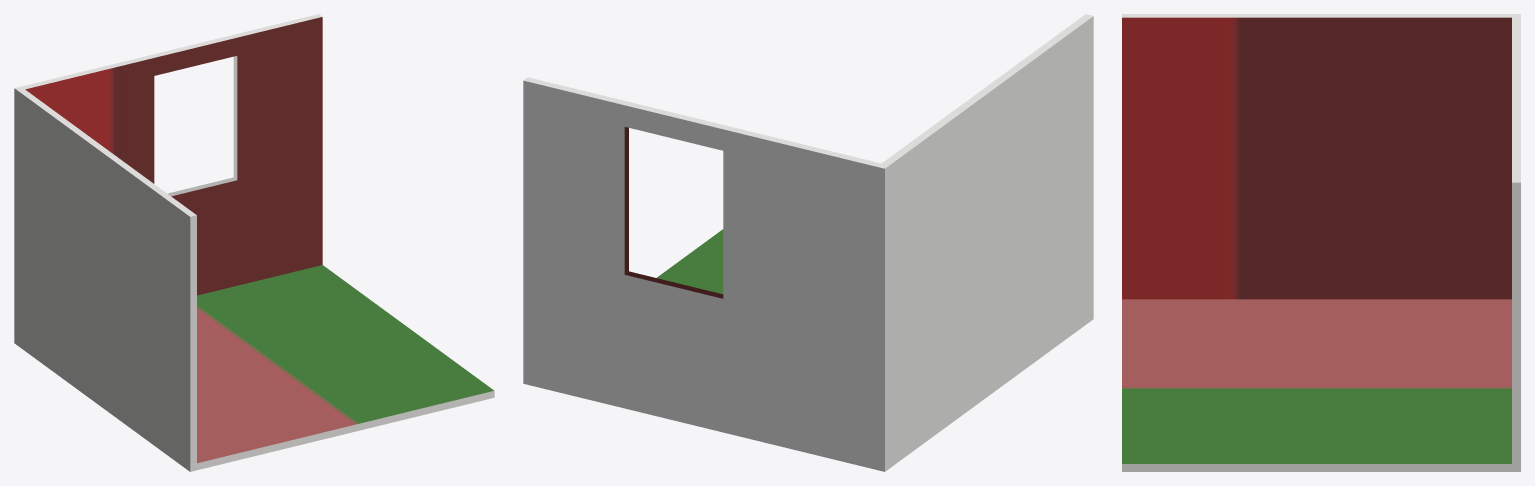
Rendered from Bedroom3_base.fbx.
The picture shows the model from 3 angles, left to right: view 1: azimuth 30°, elevation 25°; view 2: azimuth 150°, elevation 25°; view 3: azimuth 270°, elevation 25°; orthographic projection. The views are drawn at different scales.
Visible parts, largest first — view 1: Bedroom3_base; view 2: Bedroom3_base; view 3: Bedroom3_base.
Boxes of the visible parts, box(x1,y1,x2,y2) form: Bedroom3_base: box(14, 14, 494, 471); Bedroom3_base: box(523, 14, 1093, 471); Bedroom3_base: box(1122, 14, 1520, 471).
Size of the model in its own units: 500 by 401 by 500.
